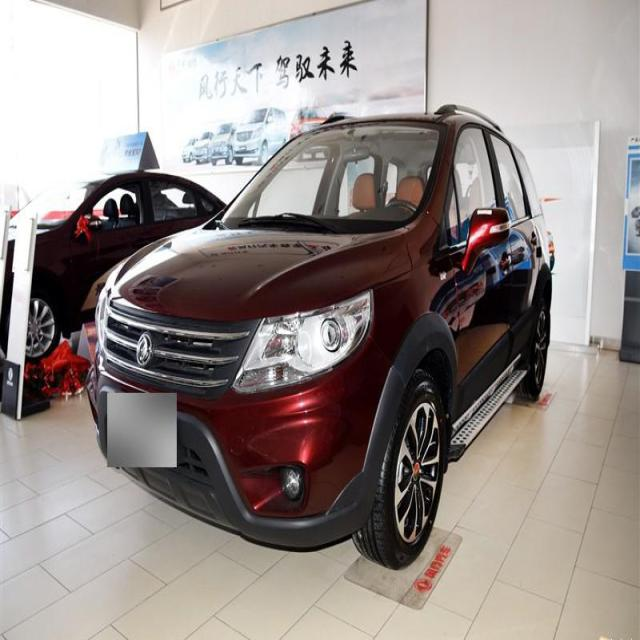front_bumper: (90, 352, 400, 551)
front_glass: (214, 120, 449, 231)
front_left_side_door: (439, 115, 513, 438)
front_left_side_light: (232, 286, 374, 397)
front_left_side_mirror: (456, 205, 513, 271)
wheel: (352, 378, 445, 563)
